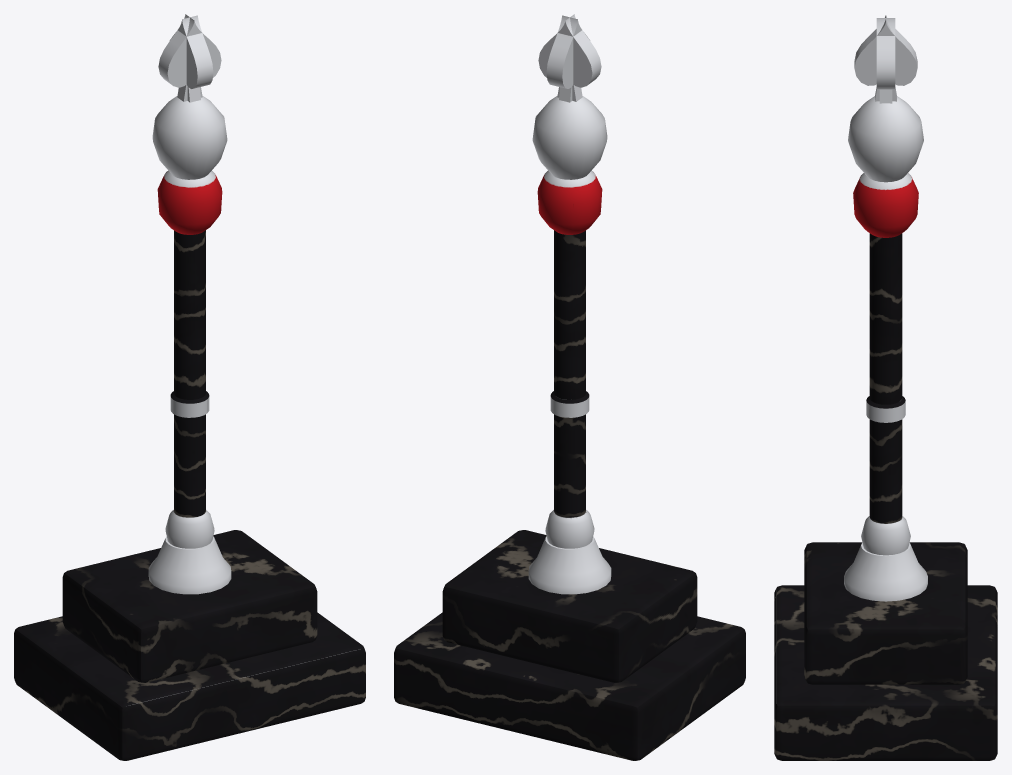
The model's file is SM_FS_Sceptre.glb.
3 views of the same model, side by side, from view 1: azimuth 30°, elevation 25°; view 2: azimuth 150°, elevation 25°; view 3: azimuth 270°, elevation 25° (orthographic).
Parts seen in each view (by area): view 1: SM_FS_Sceptre; view 2: SM_FS_Sceptre; view 3: SM_FS_Sceptre.
Part boxes in pixels (<box>): SM_FS_Sceptre: <box>14,14,365,760</box>; SM_FS_Sceptre: <box>394,14,745,760</box>; SM_FS_Sceptre: <box>774,15,997,760</box>.
Size of the model in its own units: 0.11 by 0.2875 by 0.085.
1 material, 1 textured.
